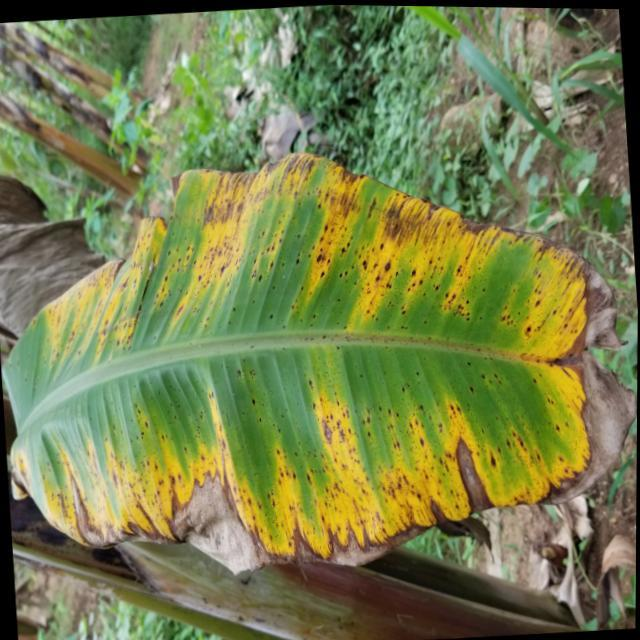Early_rust: (0, 144, 612, 566)
